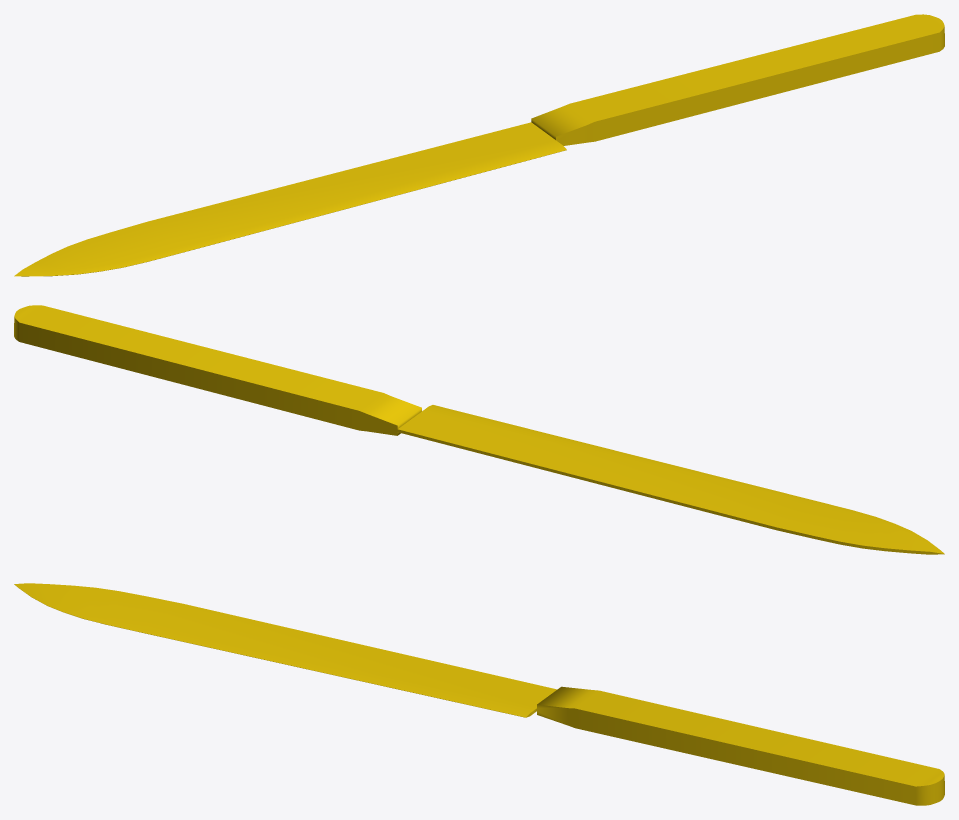
File: SM_Knife_17.FBX
3 renders of one model, top to bottom at view 1: azimuth 30°, elevation 25°; view 2: azimuth 150°, elevation 25°; view 3: azimuth 330°, elevation 25°, orthographic.
Visible parts, largest first — view 1: Knife_17; view 2: Knife_17; view 3: Knife_17.
Part boxes in pixels (x1,y1,x2,y2): Knife_17: (14,14,944,276); Knife_17: (14,305,944,554); Knife_17: (14,583,944,805).
Size of the model in its own units: 22.68 by 0.5965 by 1.65.
